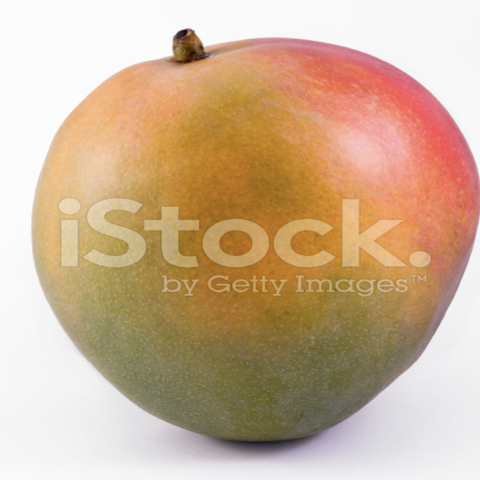mango: (0, 10, 479, 476)
